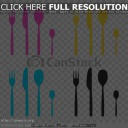Fork: (66, 66, 84, 116), (6, 67, 20, 116), (3, 10, 18, 54), (70, 12, 84, 55)
